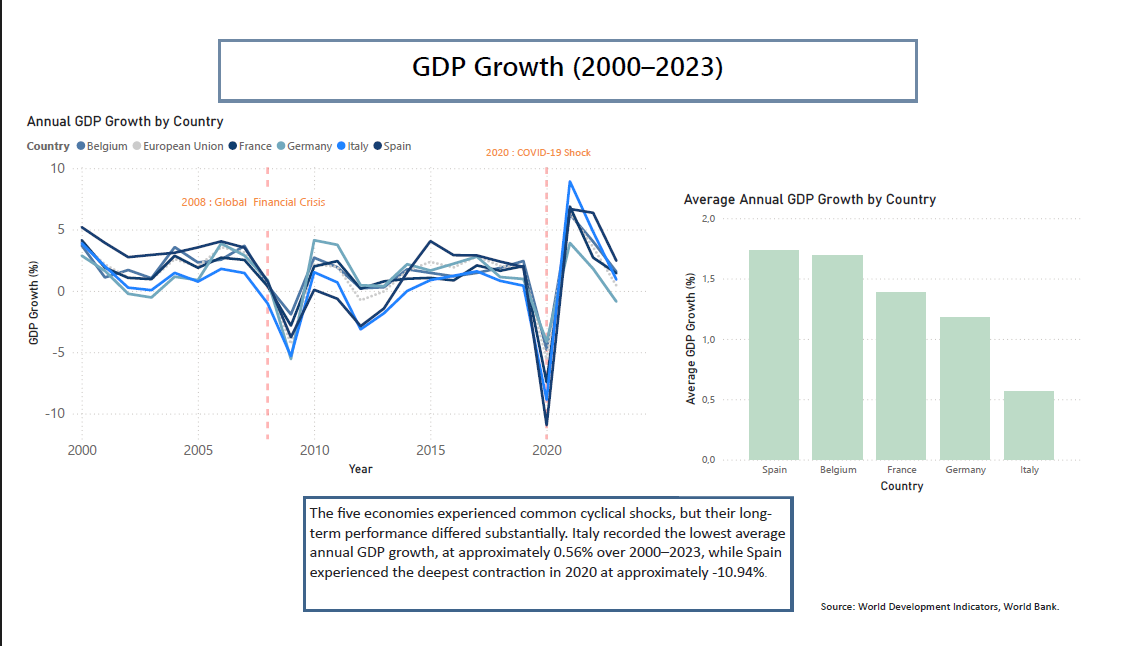

This screenshot's page, from the dashboard's own definition file:
{"tool":"powerbi","page":{"name":"GDP Growth","canvas":[1280,720],"ordinal":1},"visuals":[{"type":"textbox","box":[230.6,26.5,825.8,73.7],"z":0},{"type":"lineChart","title":"Annual GDP Growth by Country","fields":{"Category":["API_SL UEM TOTL ZS_DS2_en_csv_v2_33398.Year"],"Series":["API_SL UEM TOTL ZS_DS2_en_csv_v2_33398.Country"],"Y":["Avg(API_SL UEM TOTL ZS_DS2_en_csv_v2_33398.GDP_Growth)"]},"box":[0,111.9,751,433.1],"z":1000},{"type":"textbox","box":[330.7,565,578.3,136.1],"z":2000},{"type":"columnChart","title":"Average Annual GDP Growth by Country","fields":{"Category":["API_SL UEM TOTL ZS_DS2_en_csv_v2_33398.Country"],"Y":["API_SL UEM TOTL ZS_DS2_en_csv_v2_33398.Avg GDP Growth"]},"box":[774.8,204.1,478.1,360.9],"z":3000},{"type":"textbox","box":[937.3,680.3,342,39.7],"z":4000},{"type":"textbox","box":[183.3,204.1,192.8,39.7],"z":5000},{"type":"textbox","box":[542.4,143.6,153.1,30.2],"z":6000}]}

Visuals, with their boxes in screenshot pixels (x1, y1, x2, y2), scaled from the page's 1280x720 canvas onto the 1123x646 screenshot:
textbox: [202,24,927,90]
"Annual GDP Growth by Country" lineChart: [0,100,659,489]
textbox: [290,507,798,629]
"Average Annual GDP Growth by Country" columnChart: [680,183,1099,507]
textbox: [822,610,1122,645]
textbox: [161,183,330,219]
textbox: [476,129,610,156]
